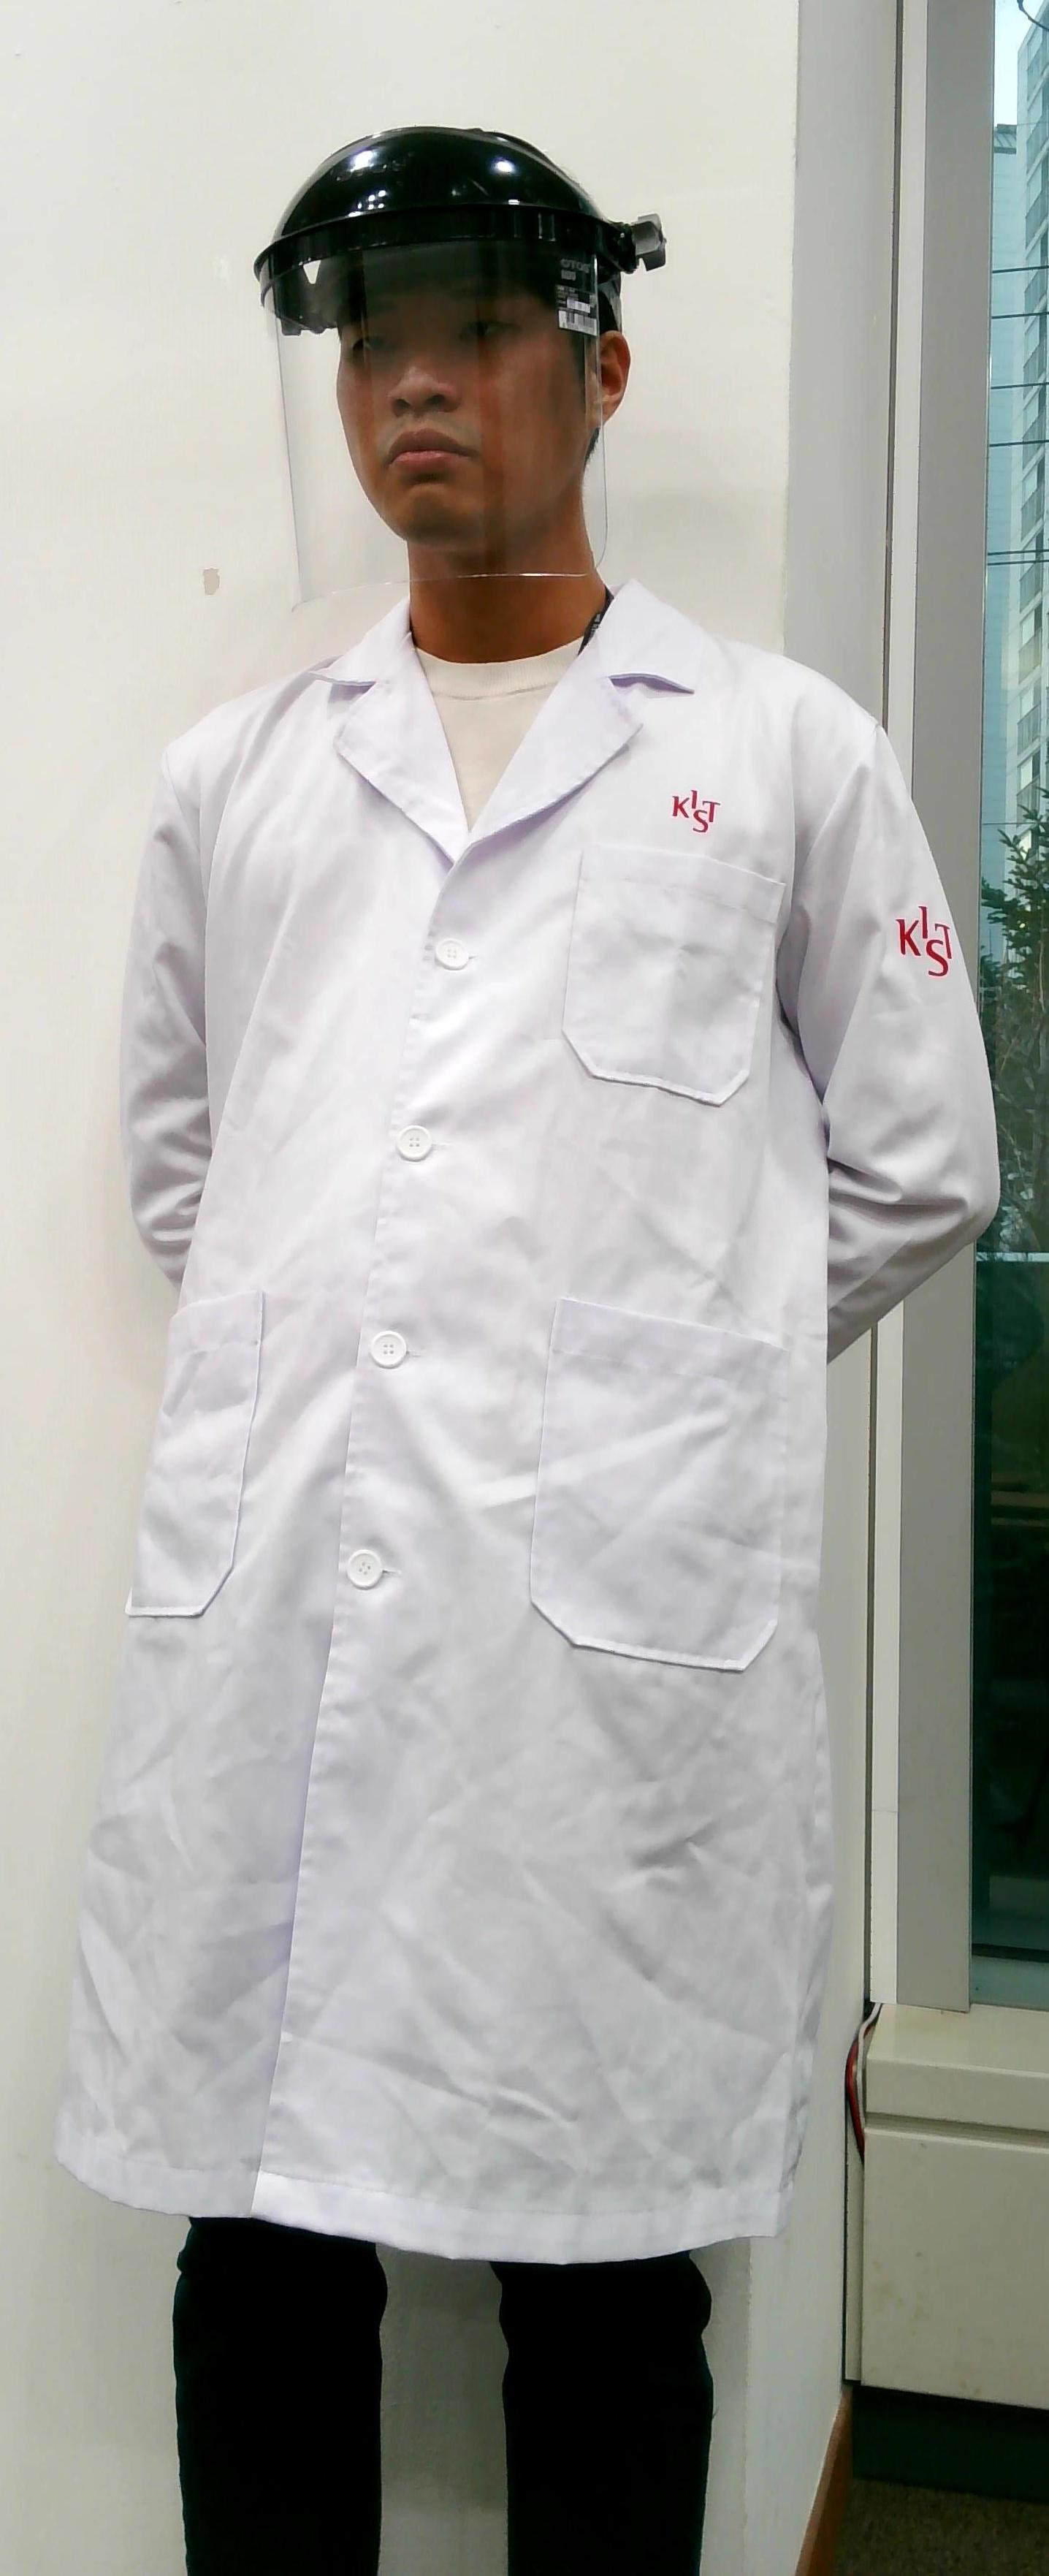lab_coat: (126, 718, 873, 2216)
